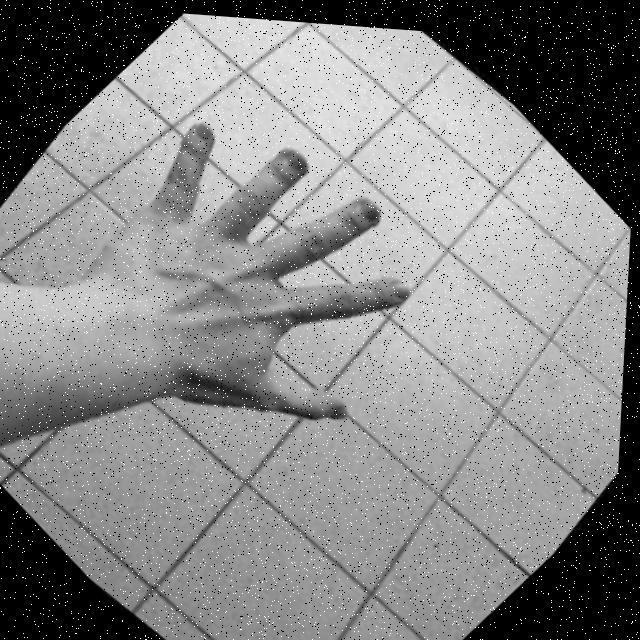no-gloves: (0, 27, 494, 541)
